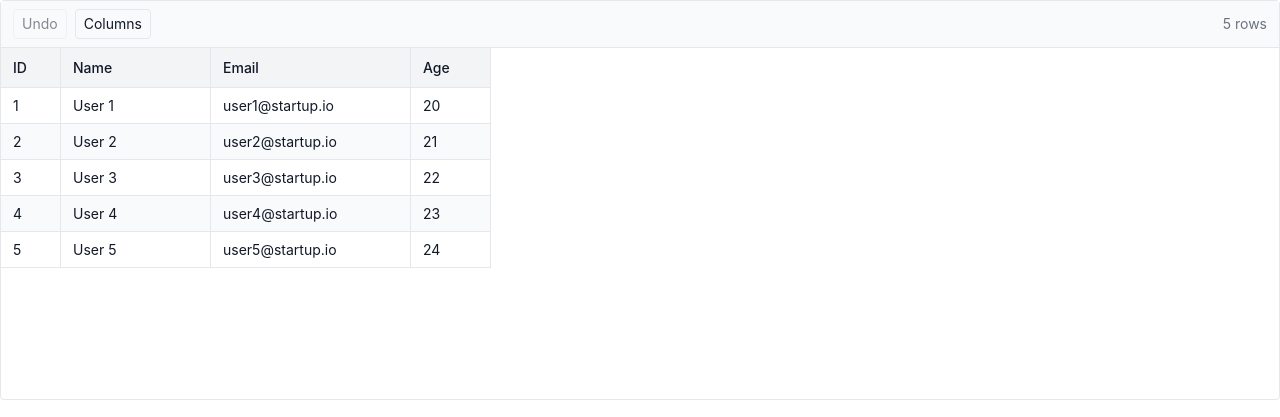
Test: DataGrid › Interactions › edit mode works
This screenshot has width=1280, height=417.
// double click to edit
Double-click the text "User 1": (93, 106) x1=73 y1=96 x2=114 y2=116
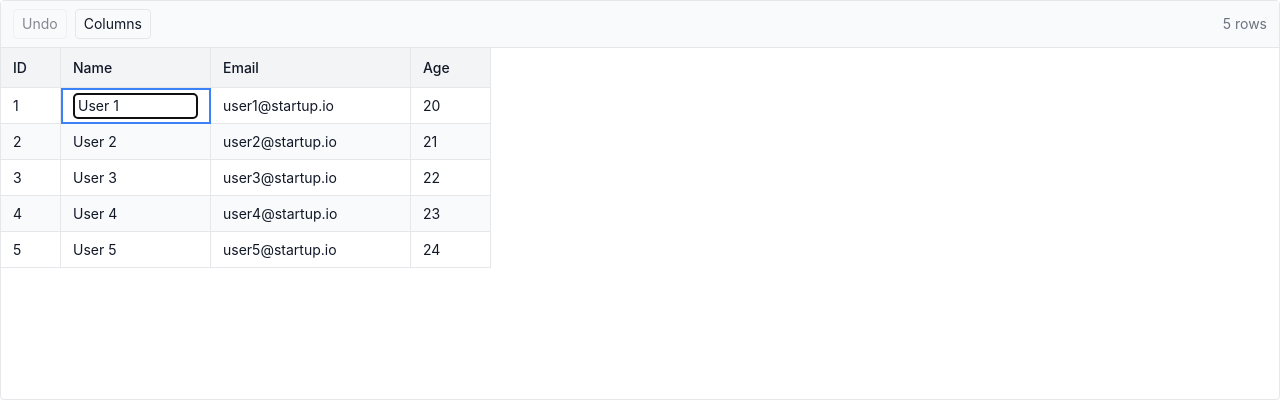
Expected: the field holds "User 1", x1=73 y1=92 x2=198 y2=118
Press Escape
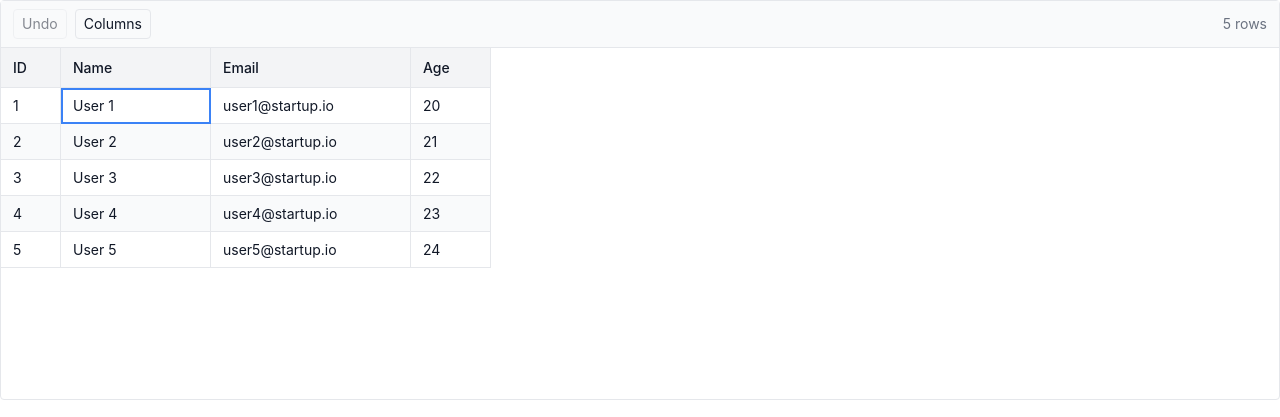
Expected: the field is gone
